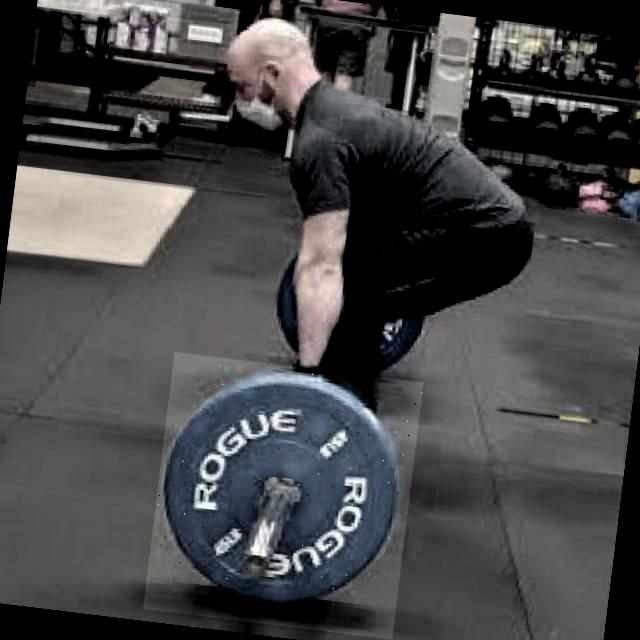barbell: (143, 352, 425, 640)
